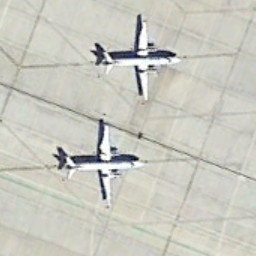Airplane: (87, 6, 197, 115), (37, 118, 156, 216)
